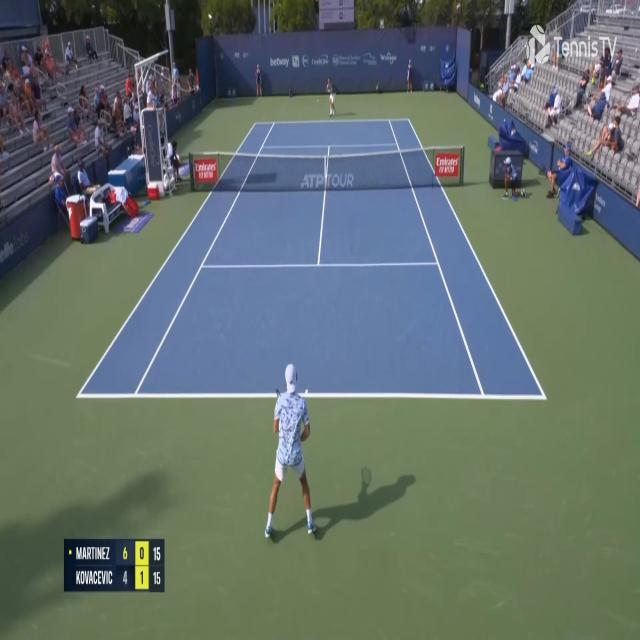tennis-player: (262, 358, 324, 546), (324, 76, 338, 118)
